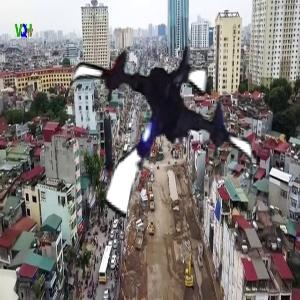drone: (53, 29, 267, 243)
